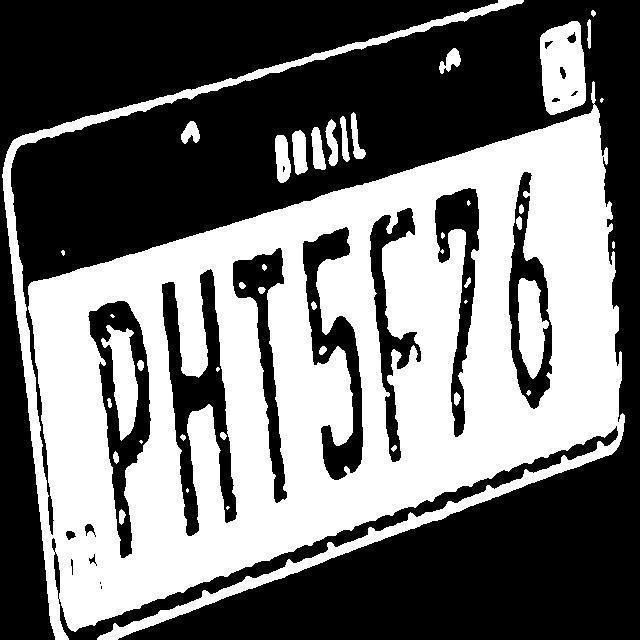5: (302, 220, 366, 495)
6: (506, 162, 570, 428)
7: (429, 175, 496, 456)
f: (366, 205, 439, 486)
h: (156, 272, 234, 544)
p: (83, 291, 150, 571)
t: (228, 248, 296, 513)
